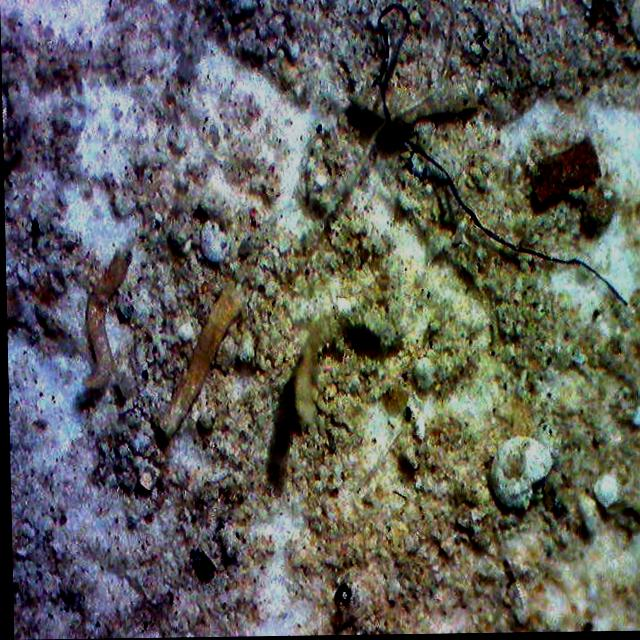microplastic: (377, 5, 626, 305)
